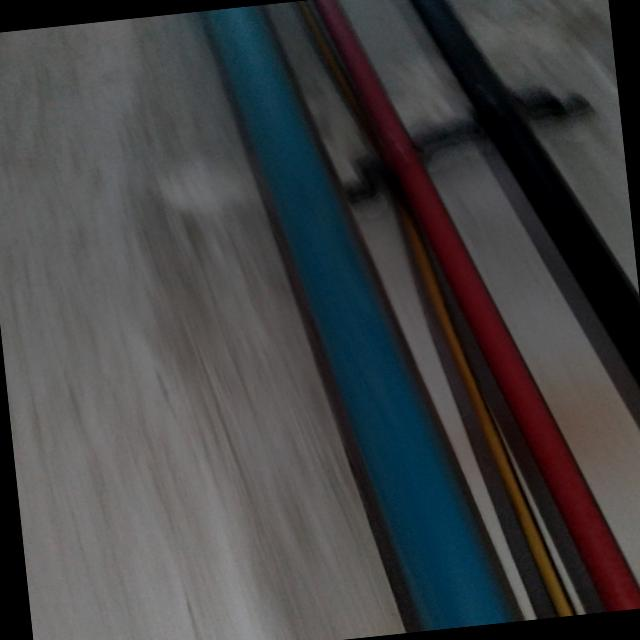gas: (313, 0, 640, 610), (199, 4, 517, 628), (405, 0, 640, 387)
